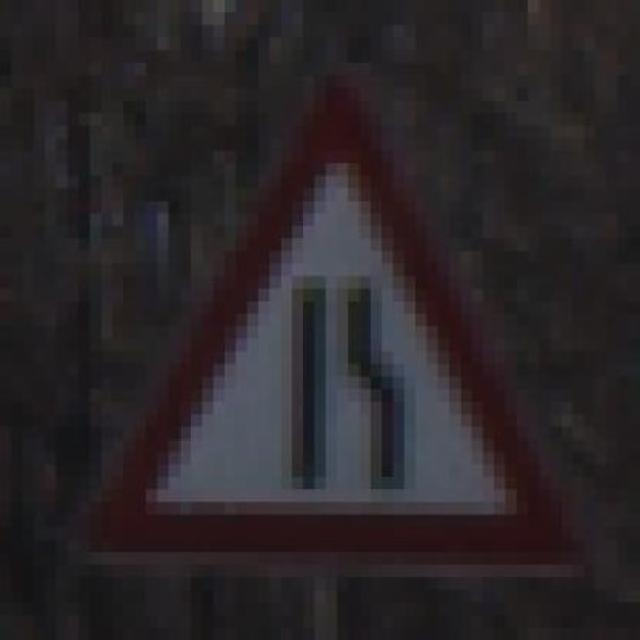-Road narrows on right: (78, 62, 584, 590)
